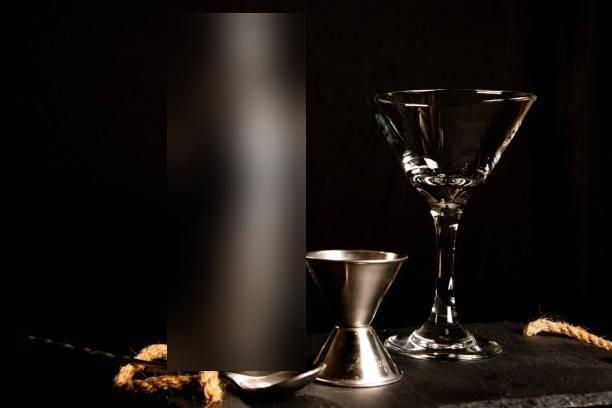glass-wine: (370, 85, 538, 360)
